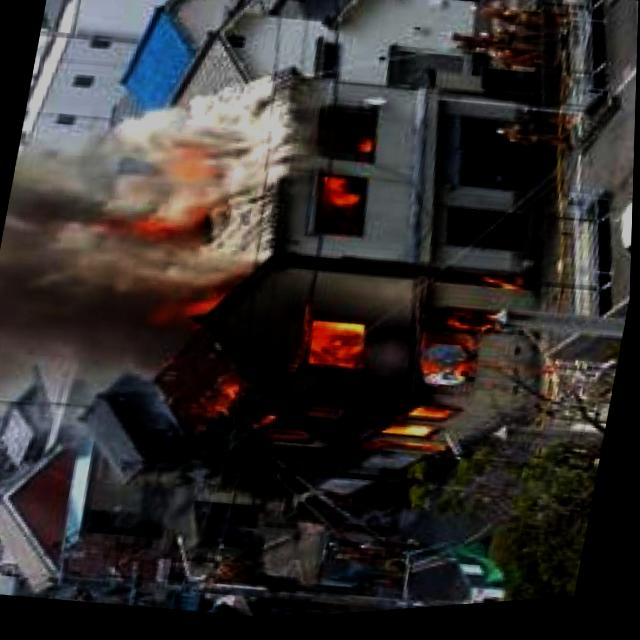helmet: (241, 244, 537, 491), (306, 176, 373, 247)
no_helmet: (0, 33, 315, 431)
